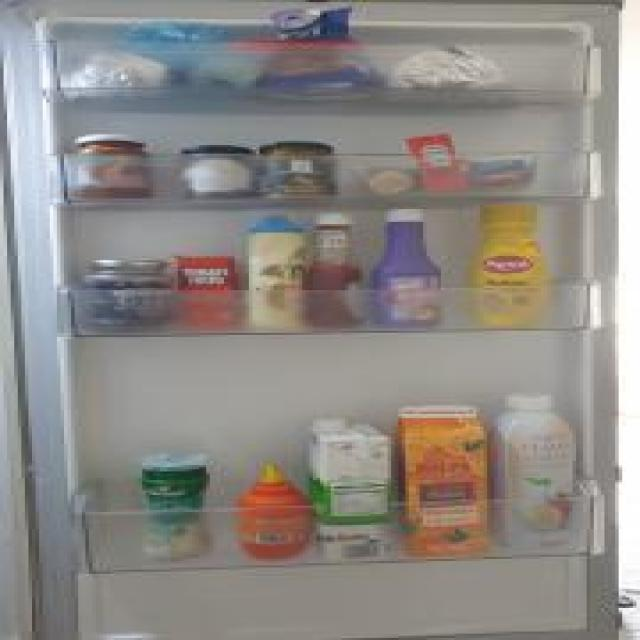milk: (308, 418, 390, 568)
